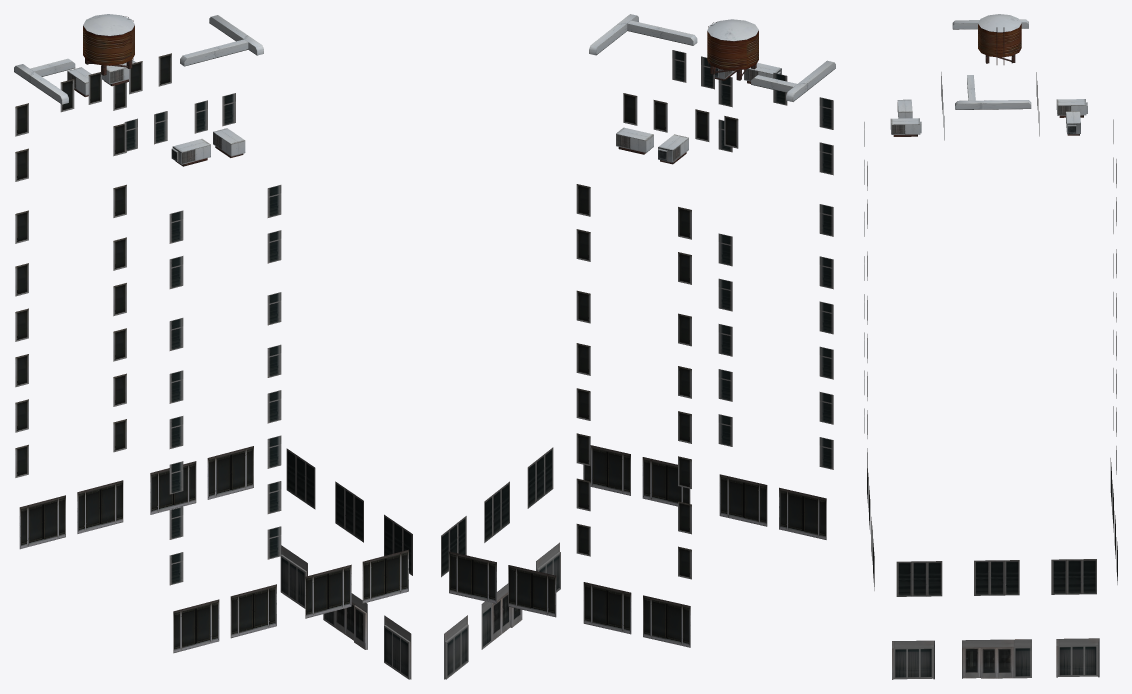
Rendered from downtown_artdeco_1_downtown_firstfloor_flr_2_0_lev3.glb.
3 renders of one model, left to right at view 1: azimuth 30°, elevation 25°; view 2: azimuth 150°, elevation 25°; view 3: azimuth 270°, elevation 25°, orthographic. The views are drawn at different scales.
Visible parts, largest first — view 1: downtown_artdeco_1_downtown_firstfloor_flr_2_0_lev3; view 2: downtown_artdeco_1_downtown_firstfloor_flr_2_0_lev3; view 3: downtown_artdeco_1_downtown_firstfloor_flr_2_0_lev3.
Part boxes in pixels (box(x1,y1,x2,y2)): downtown_artdeco_1_downtown_firstfloor_flr_2_0_lev3: box(14, 14, 412, 679); downtown_artdeco_1_downtown_firstfloor_flr_2_0_lev3: box(441, 14, 835, 679); downtown_artdeco_1_downtown_firstfloor_flr_2_0_lev3: box(864, 14, 1117, 679).
Size of the model in its own units: 14.49 by 29.15 by 11.87.
Materials: 1 (1 with a texture image).
